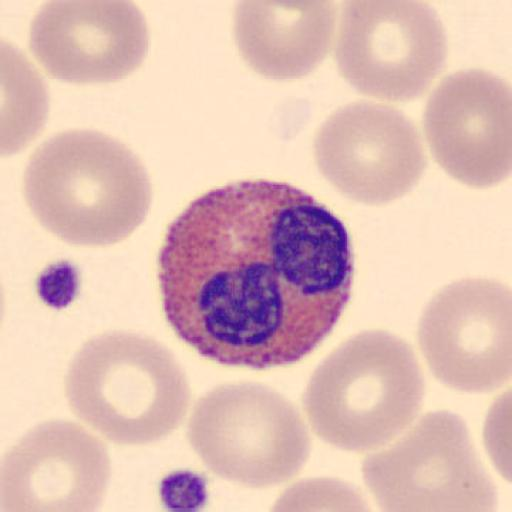Platelet: (30, 256, 87, 312), (155, 464, 213, 512)
RBC: (20, 126, 156, 250), (302, 326, 428, 455), (63, 327, 192, 449), (358, 407, 499, 512), (186, 377, 313, 490), (311, 98, 427, 208), (333, 0, 451, 103), (415, 273, 511, 396), (422, 66, 511, 192), (27, 0, 152, 87), (2, 417, 112, 512), (230, 0, 337, 83), (2, 40, 52, 160), (264, 474, 383, 512), (480, 385, 512, 491)
WBC: (156, 176, 358, 371)
